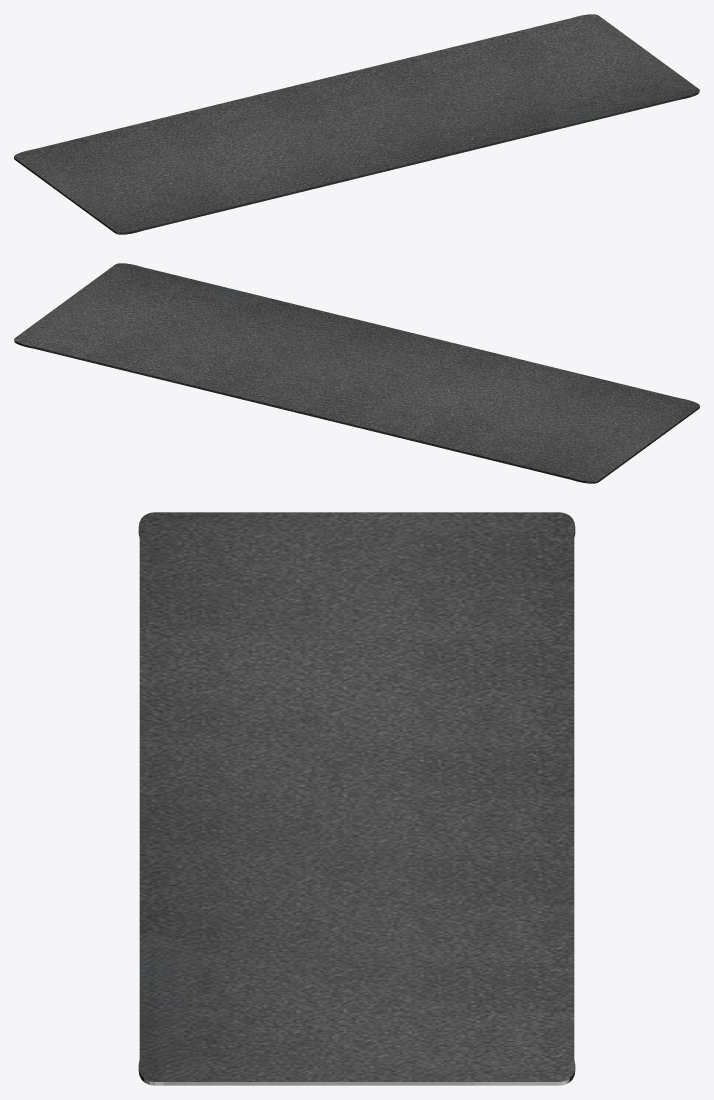
The model's file is low_poly_gaming_mat_for_game_dev.glb.
3 renders of one model, top to bottom at view 1: azimuth 30°, elevation 25°; view 2: azimuth 150°, elevation 25°; view 3: azimuth 270°, elevation 25°, orthographic. The views are drawn at different scales.
Parts seen in each view (by area): view 1: Cube_0; view 2: Cube_0; view 3: Cube_0.
Boxes of the visible parts, x1,y1,x2,y2 form: Cube_0: (14, 14, 699, 234); Cube_0: (14, 263, 699, 483); Cube_0: (138, 512, 575, 1085).
Size of the model in its own units: 6 by 0.0203 by 1.94.
Materials: 2 (2 with a texture image).
